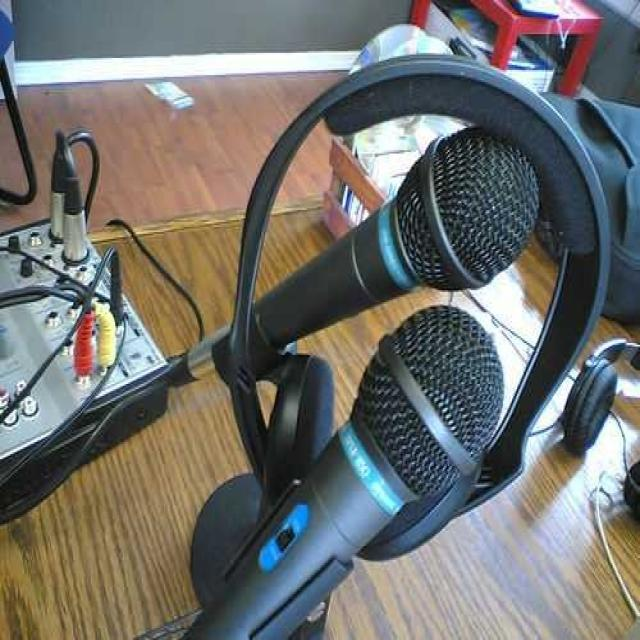microphone: (248, 122, 548, 356), (297, 304, 505, 572)
